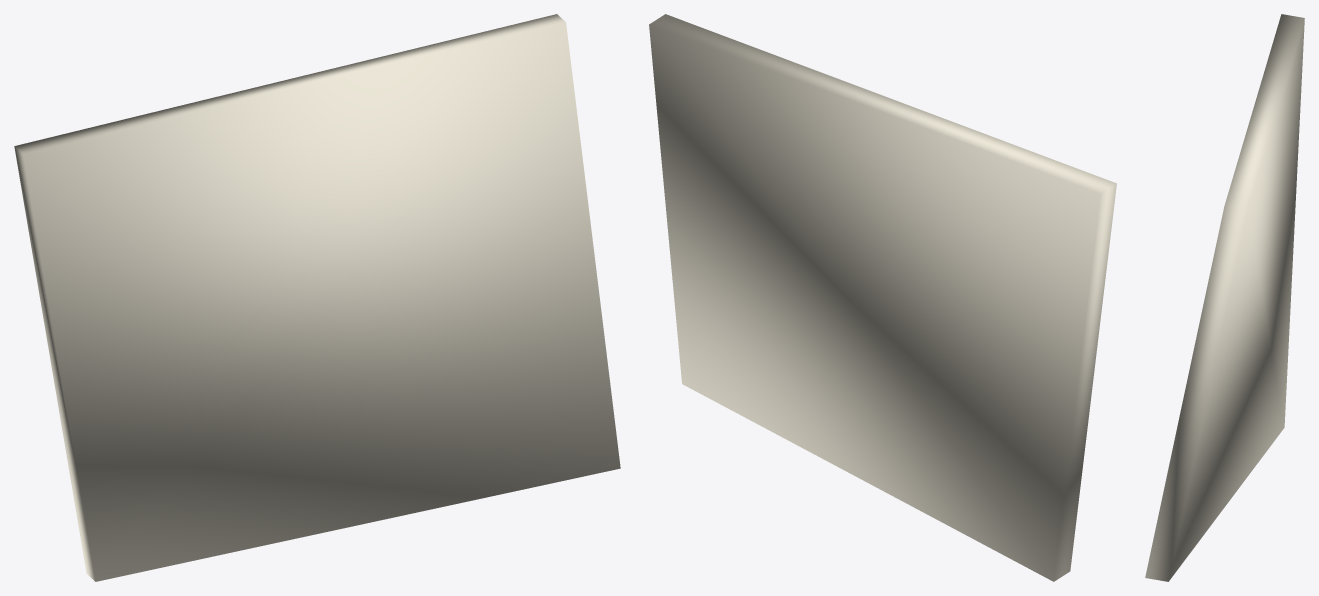
3 views of the same model, side by side, from view 1: azimuth 30°, elevation 25°; view 2: azimuth 150°, elevation 25°; view 3: azimuth 270°, elevation 25° (orthographic). The views are drawn at different scales.
Parts seen in each view (by area): view 1: ZA_62deecfc5fc11e7c; view 2: ZA_62deecfc5fc11e7c; view 3: ZA_62deecfc5fc11e7c.
Boxes of the visible parts, bbox=[...] form: ZA_62deecfc5fc11e7c: bbox=[14, 14, 620, 581]; ZA_62deecfc5fc11e7c: bbox=[649, 14, 1116, 581]; ZA_62deecfc5fc11e7c: bbox=[1145, 14, 1304, 581].
Size of the model in its own units: 0.0112 by 0.00952 by 0.00333.
